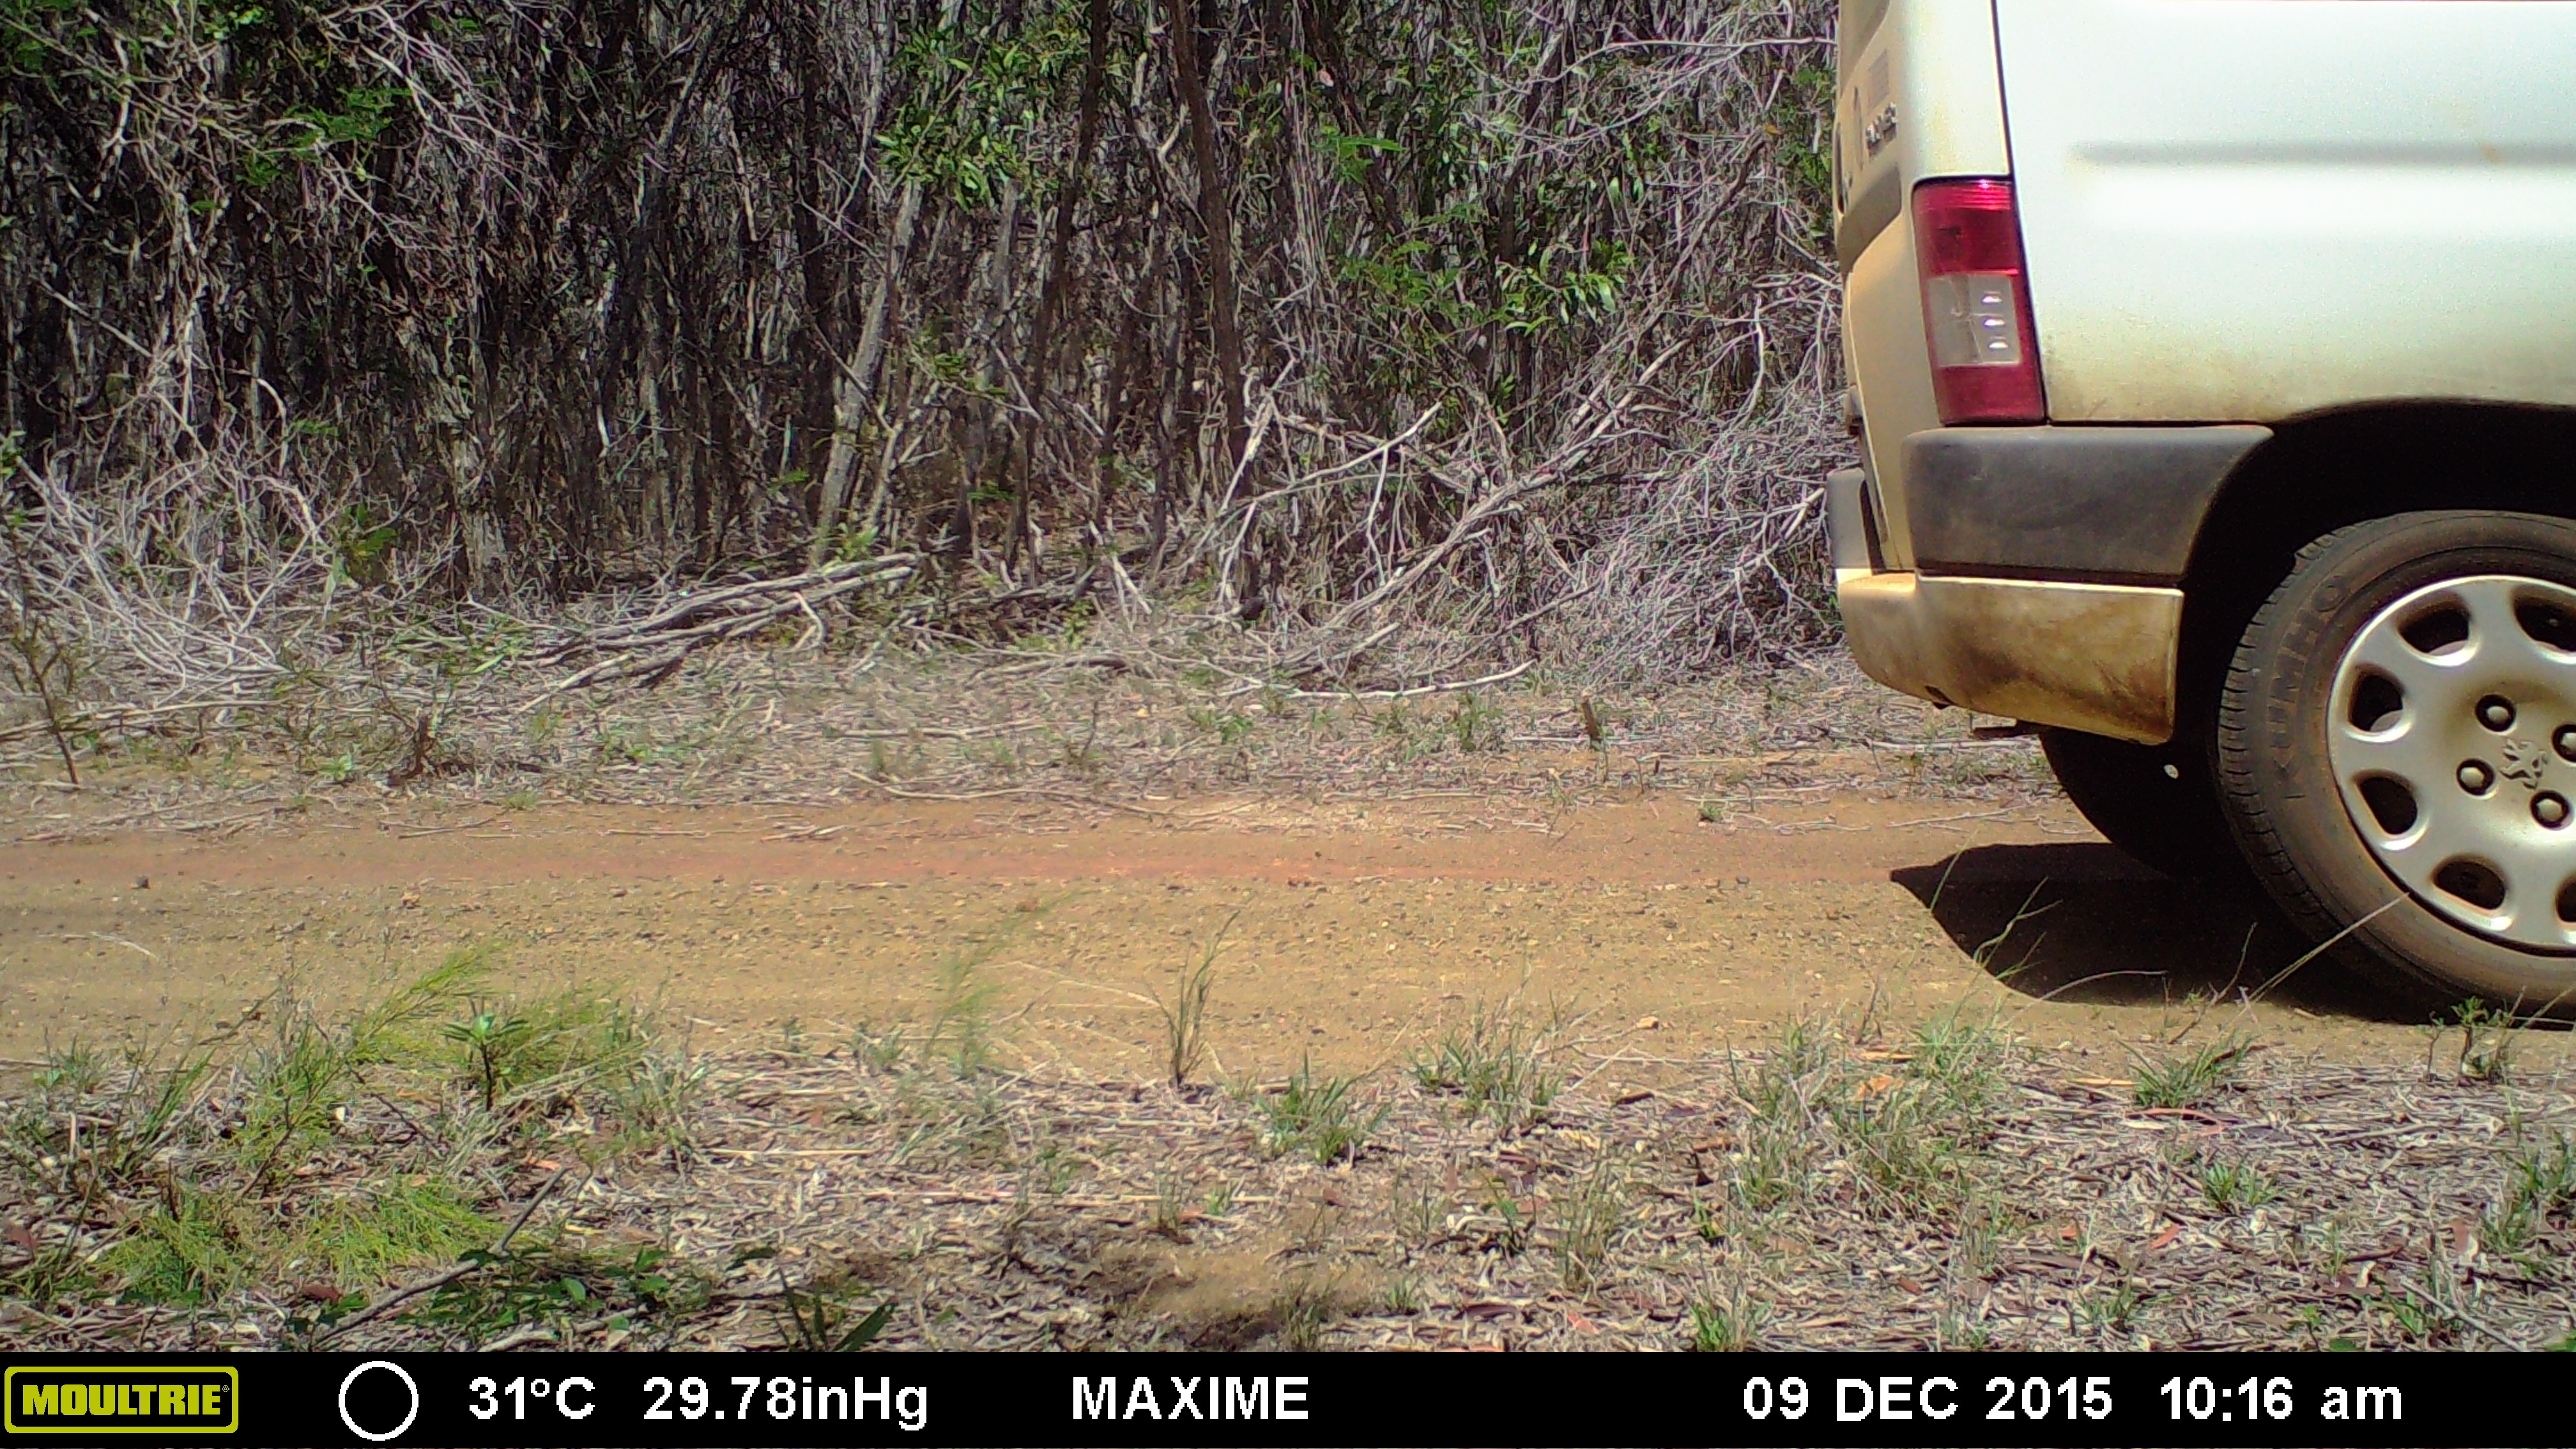Car: (1771, 2, 2565, 1030)
